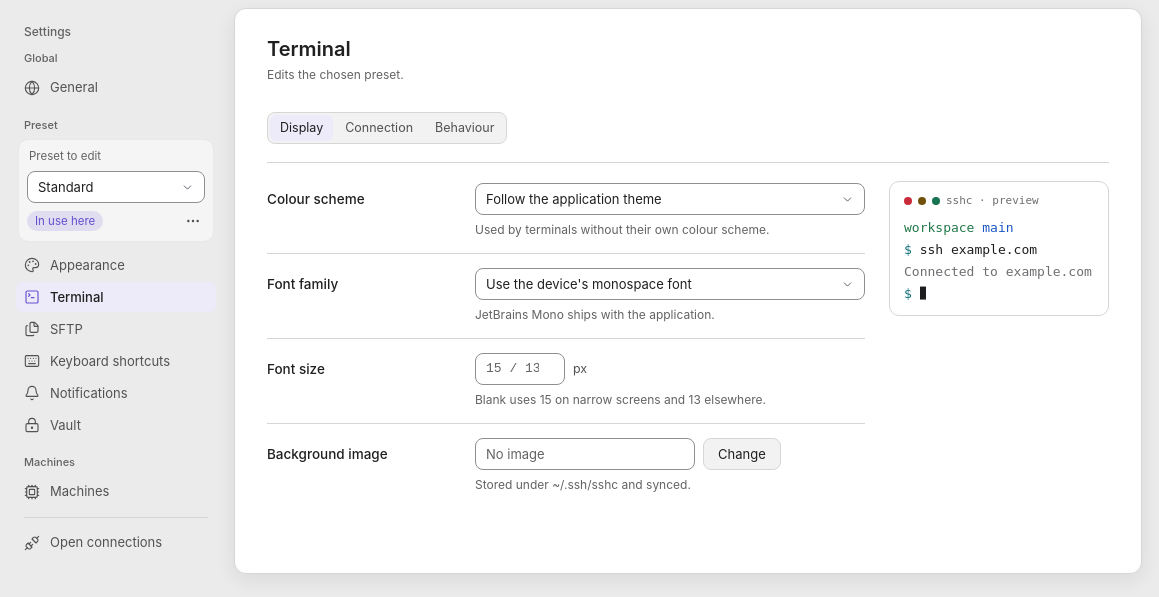
Test: SettingsPanel › edits the preset chosen above the pages and offers to use it on this machine
This screenshot has width=1159, height=597.
Select "Phone" in the dropdown named "Preset to edit" at [116, 187], box x1=27 y1=171 x2=205 y2=203
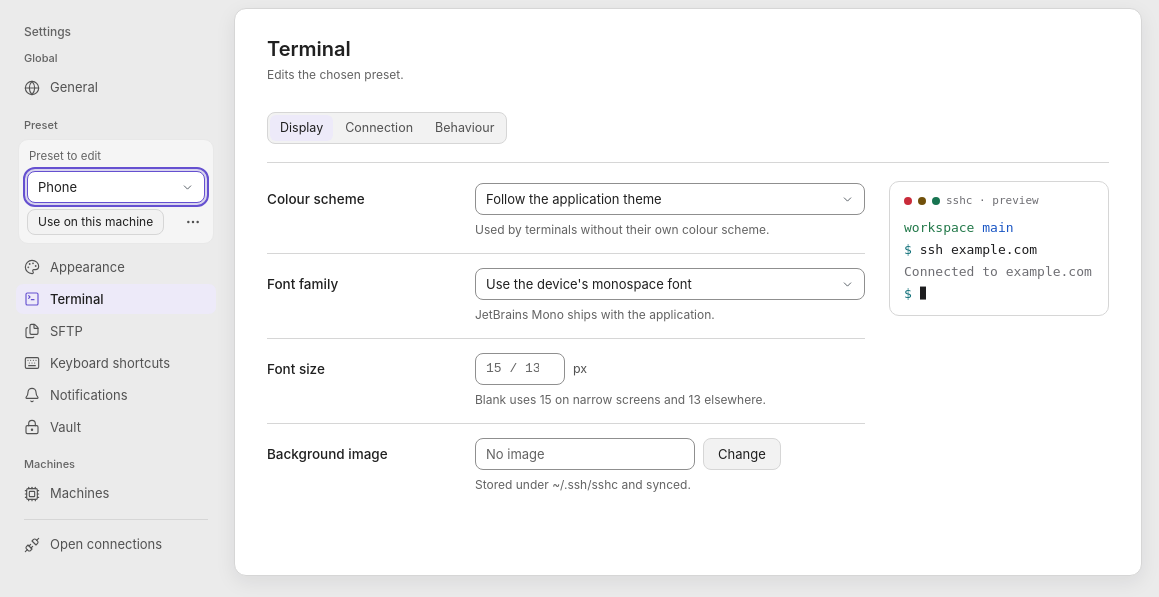
Click the tab "Connection" at [379, 128], box x1=335 y1=115 x2=423 y2=141
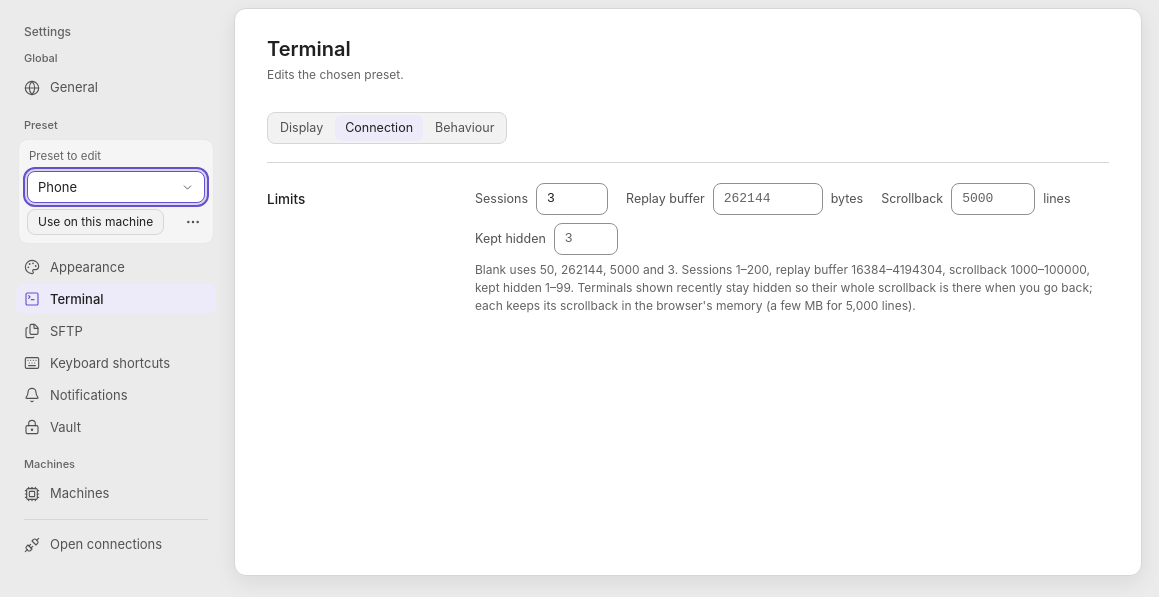
Check: the number field named "Sessions open at once" holds "3"
Replace the text in the number field named "Sessions open at once" with "4" at [572, 199], box x1=536 y1=183 x2=608 y2=215
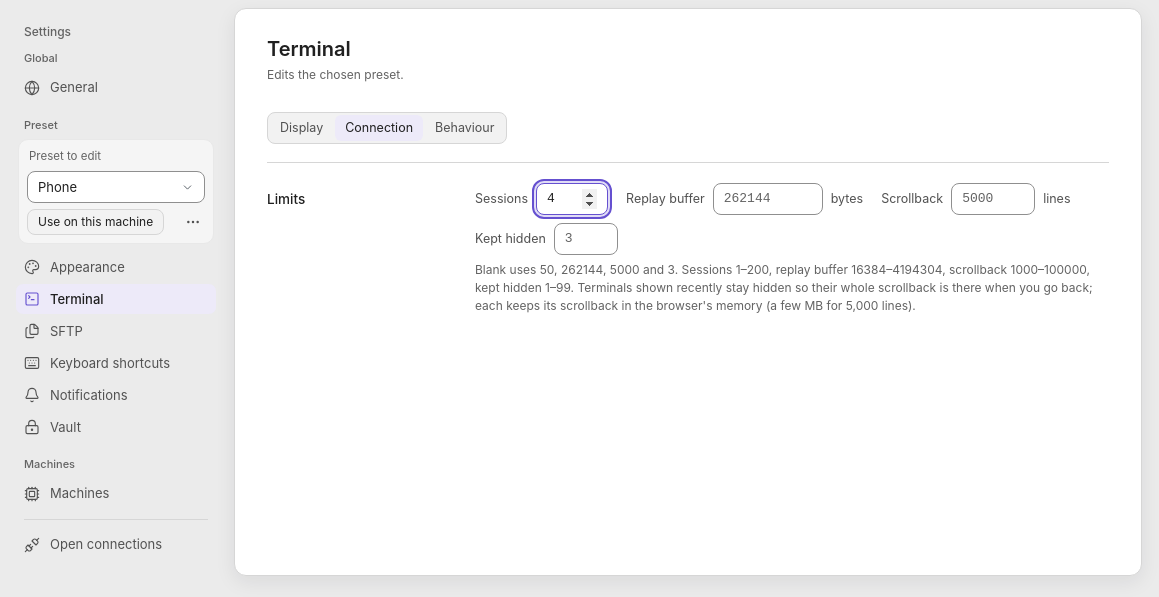
Press Tab
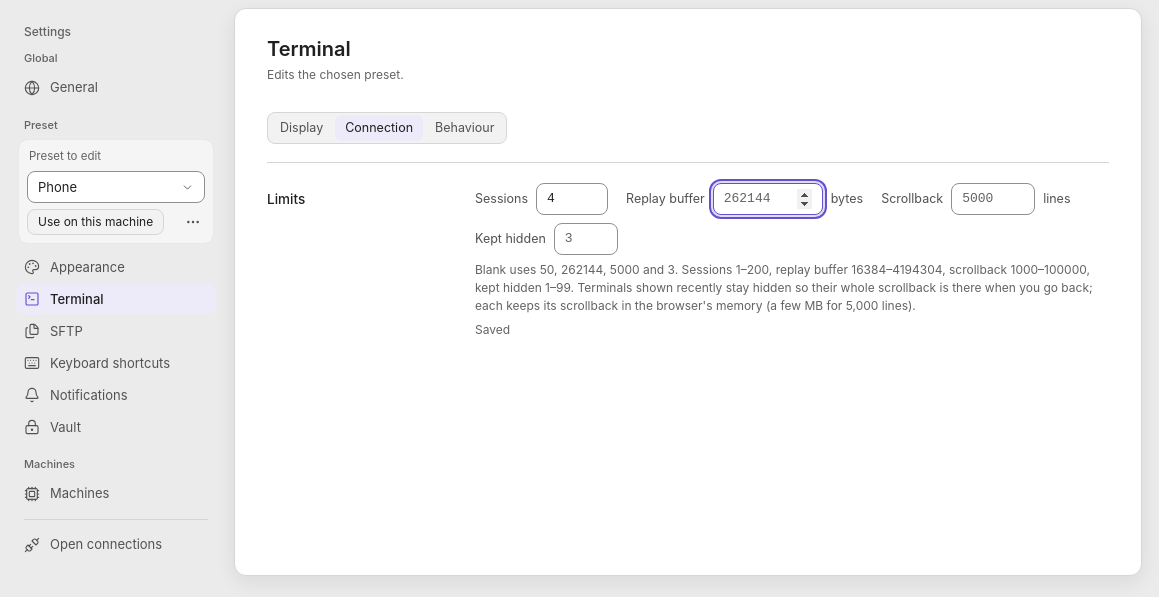
Click the button "Use on this machine" at [96, 222], box x1=27 y1=209 x2=164 y2=235
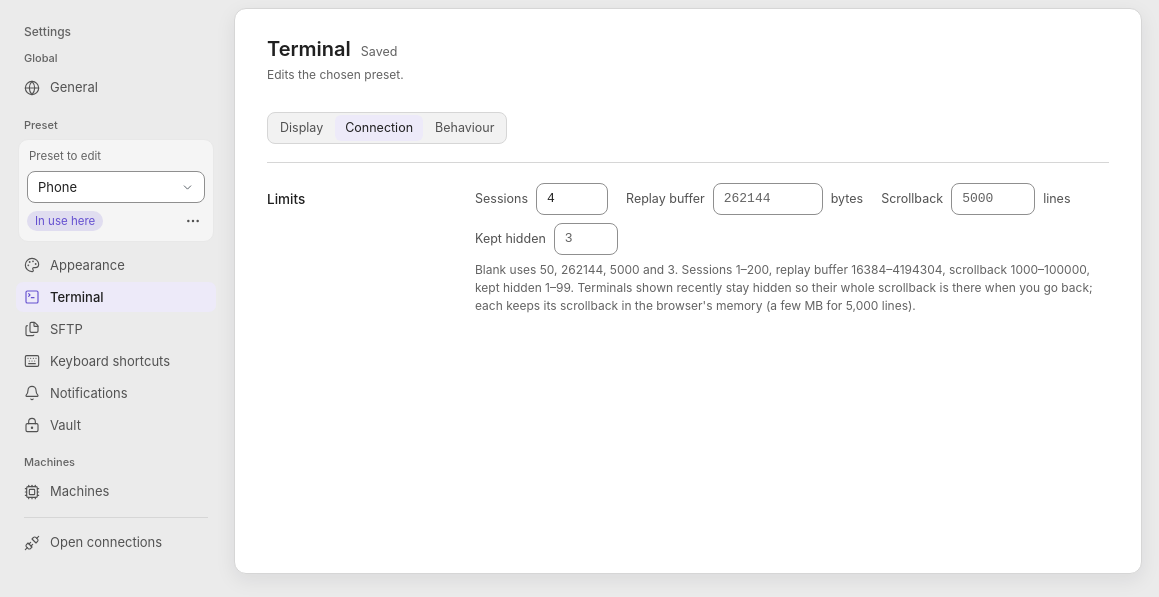
Check: the text "In use here" is shown, box x1=27 y1=211 x2=103 y2=231
